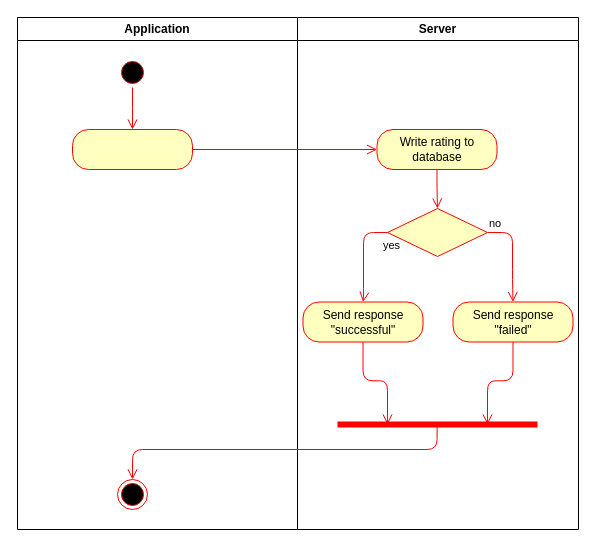
The diagram is 596 pixels wide and 547 high, and some of its shapes have lost their labels. The centre of each missing label's shape, as x and y in pixels:
"User submits rating" belongs at [132,149].
"Writing is successful" belongs at [437,232].
